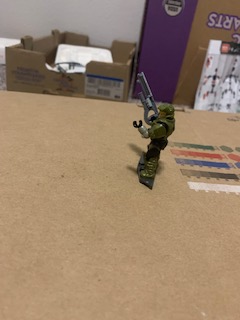soldier: (131, 70, 179, 186)
